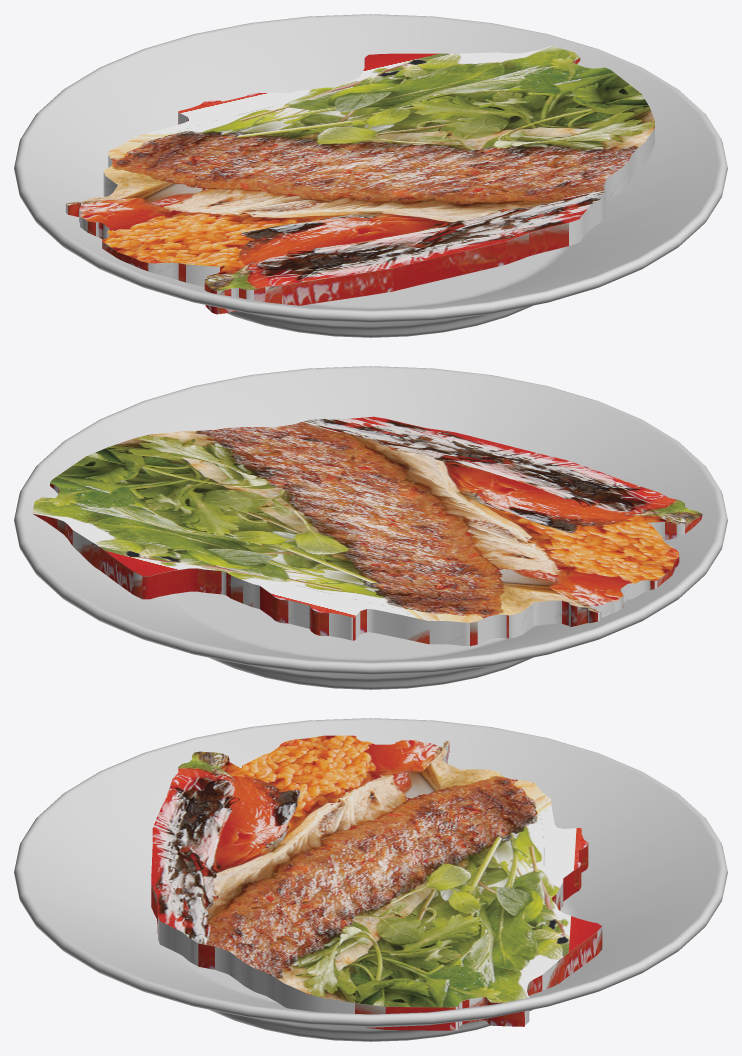
Rendered from adana.gltf.
3 views of the same model, one above another, from view 1: azimuth 30°, elevation 25°; view 2: azimuth 150°, elevation 25°; view 3: azimuth 270°, elevation 25° (orthographic).
Parts seen in each view (by area): view 1: Component#1, root; view 2: Component#1, root; view 3: Component#1, root.
Part boxes in pixels (x1=…): Component#1: x1=65, y1=45, x2=654, y2=314; root: x1=14, y1=14, x2=727, y2=337; Component#1: x1=32, y1=416, x2=702, y2=646; root: x1=14, y1=366, x2=727, y2=689; Component#1: x1=151, y1=735, x2=602, y2=1030; root: x1=14, y1=718, x2=727, y2=1041.
Size of the model in its own units: 0.15 by 0.02 by 0.15.
Materials: 2 (1 with a texture image).
